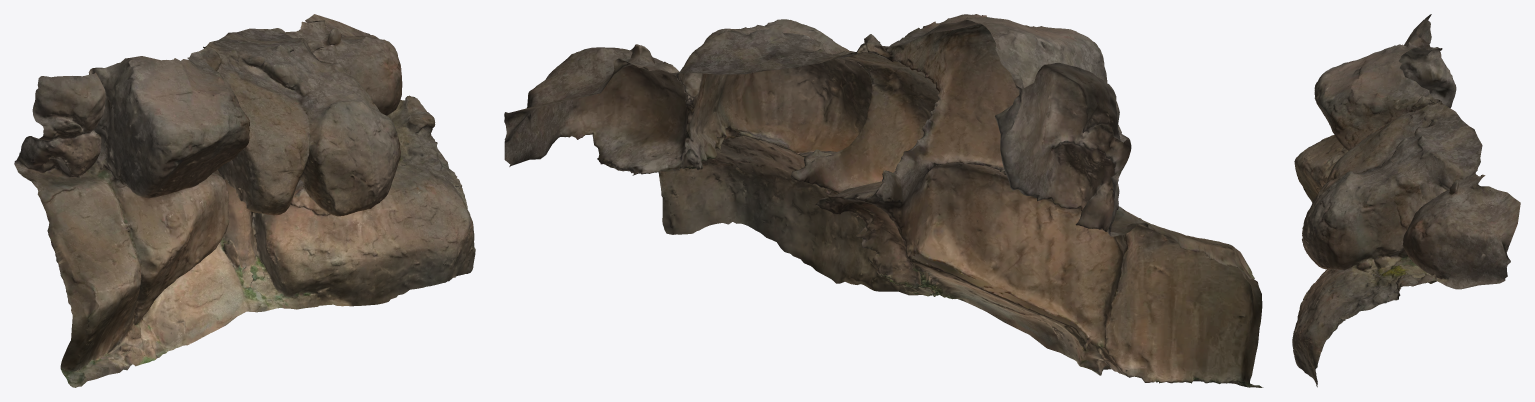
Rendered from cliff_chunk.glb.
The picture shows the model from 3 angles, left to right: view 1: azimuth 30°, elevation 25°; view 2: azimuth 150°, elevation 25°; view 3: azimuth 270°, elevation 25°; orthographic projection. The views are drawn at different scales.
Parts seen in each view (by area): view 1: drone_rock_01; view 2: drone_rock_01; view 3: drone_rock_01.
Boxes of the visible parts, left/top/right/bottom form: drone_rock_01: left=14, top=14, right=475, bottom=387; drone_rock_01: left=504, top=14, right=1263, bottom=387; drone_rock_01: left=1292, top=14, right=1520, bottom=387.
Bounding box in the file's own units: 8.28 × 4.96 × 4.39.
1 material, 1 textured.
